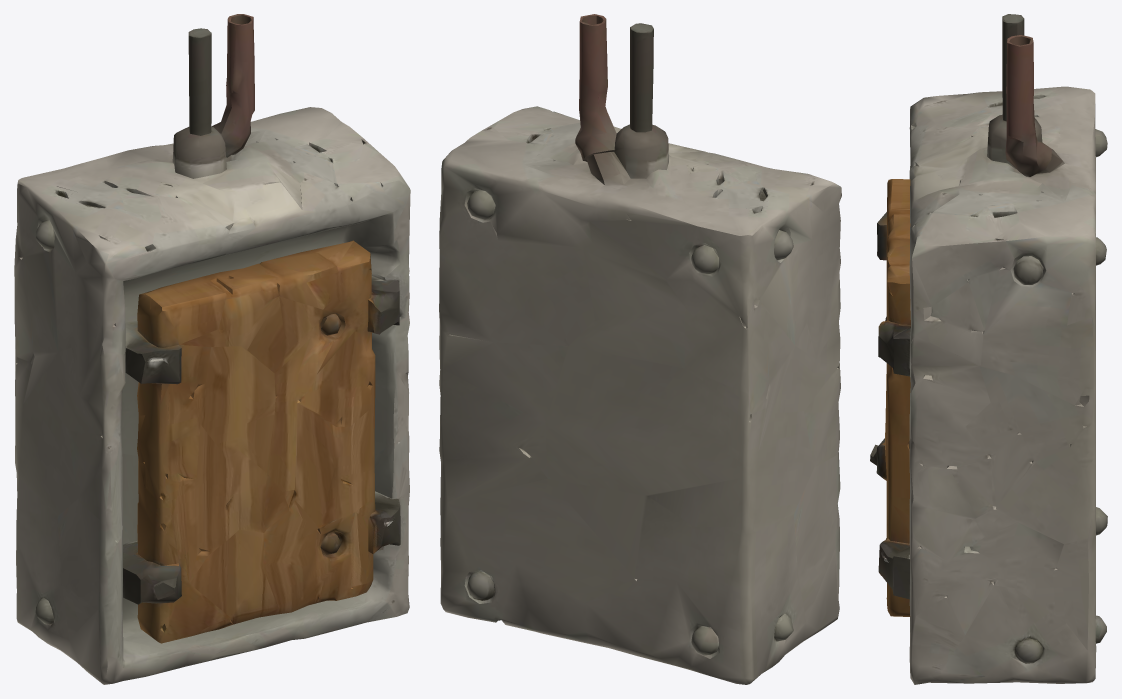
Rendered from decor_box_idle.glb.
The picture shows the model from 3 angles, left to right: view 1: azimuth 30°, elevation 25°; view 2: azimuth 150°, elevation 25°; view 3: azimuth 270°, elevation 25°; orthographic projection.
Parts seen in each view (by area): view 1: tripo_node_6860437e-54b7-4a7d-b0a3-a0bf5b3a6035; view 2: tripo_node_6860437e-54b7-4a7d-b0a3-a0bf5b3a6035; view 3: tripo_node_6860437e-54b7-4a7d-b0a3-a0bf5b3a6035.
Boxes of the visible parts, bbox=[...] form: tripo_node_6860437e-54b7-4a7d-b0a3-a0bf5b3a6035: bbox=[14, 14, 410, 684]; tripo_node_6860437e-54b7-4a7d-b0a3-a0bf5b3a6035: bbox=[439, 14, 841, 684]; tripo_node_6860437e-54b7-4a7d-b0a3-a0bf5b3a6035: bbox=[870, 14, 1107, 684].
Bounding box in the file's own units: 0.2901 × 0.4999 × 0.1831.
Materials: 1 (1 with a texture image).
